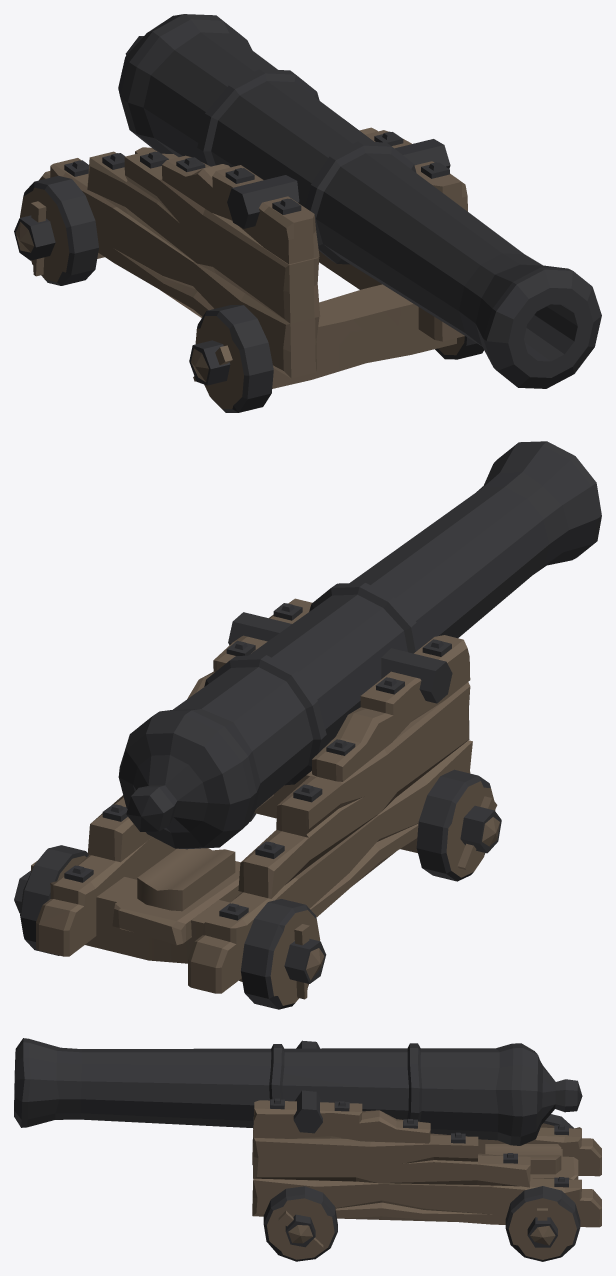
File: SM_Prop_Cannon_02.glb
3 renders of one model, top to bottom at view 1: azimuth 30°, elevation 25°; view 2: azimuth 150°, elevation 25°; view 3: azimuth 270°, elevation 25°, orthographic. The views are drawn at different scales.
Parts seen in each view (by area): view 1: SM_Prop_Cannon_02; view 2: SM_Prop_Cannon_02; view 3: SM_Prop_Cannon_02.
Part boxes in pixels (left/top/right/bottom): SM_Prop_Cannon_02: left=14, top=14, right=601, bottom=412; SM_Prop_Cannon_02: left=14, top=441, right=601, bottom=1009; SM_Prop_Cannon_02: left=14, top=1038, right=601, bottom=1261.
Size of the model in its own units: 0.0104 by 0.00855 by 0.0255.
